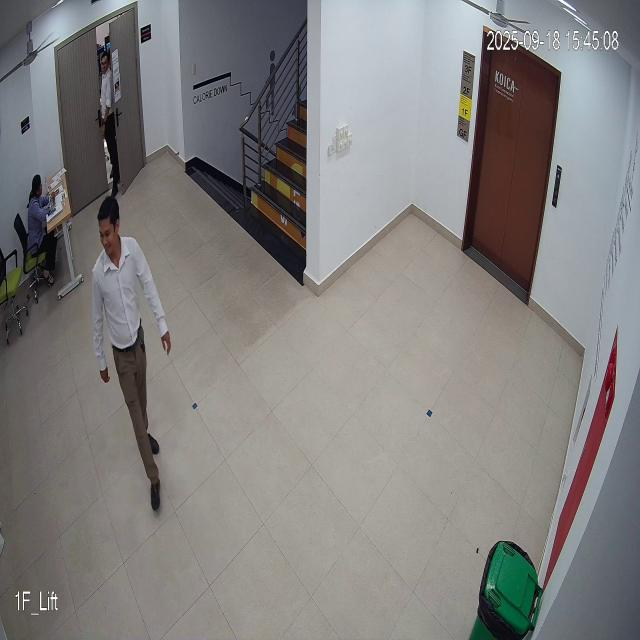face: (96, 195, 124, 258)
